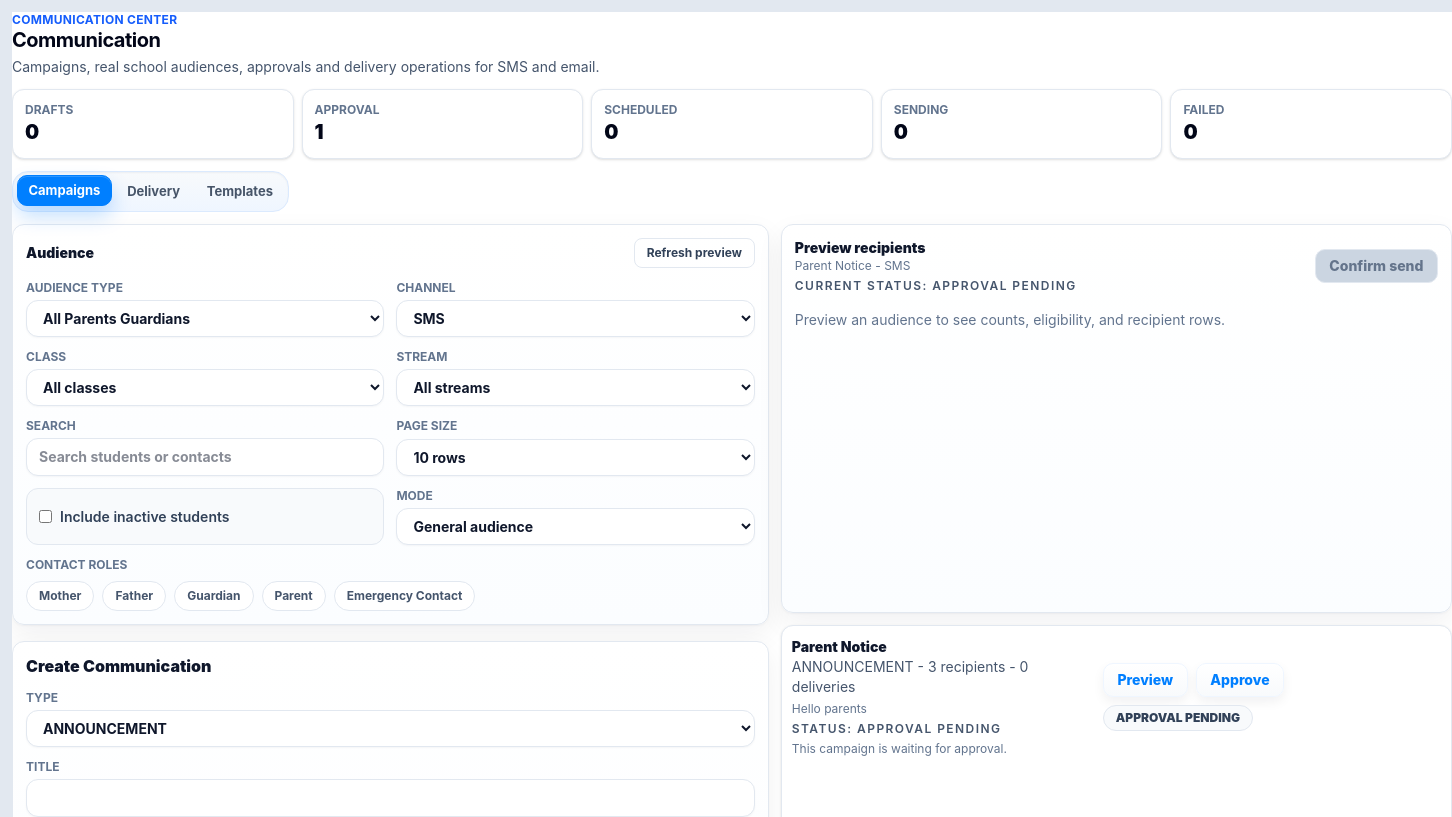
Test: CommunicationsPage › shows Approve only for approval-pending campaigns and approved users, then refreshes after approval
The width and height of the screenshot is (1452, 817).
Click the button "Approve".
click(1240, 680)  # box [1196,662,1284,696]
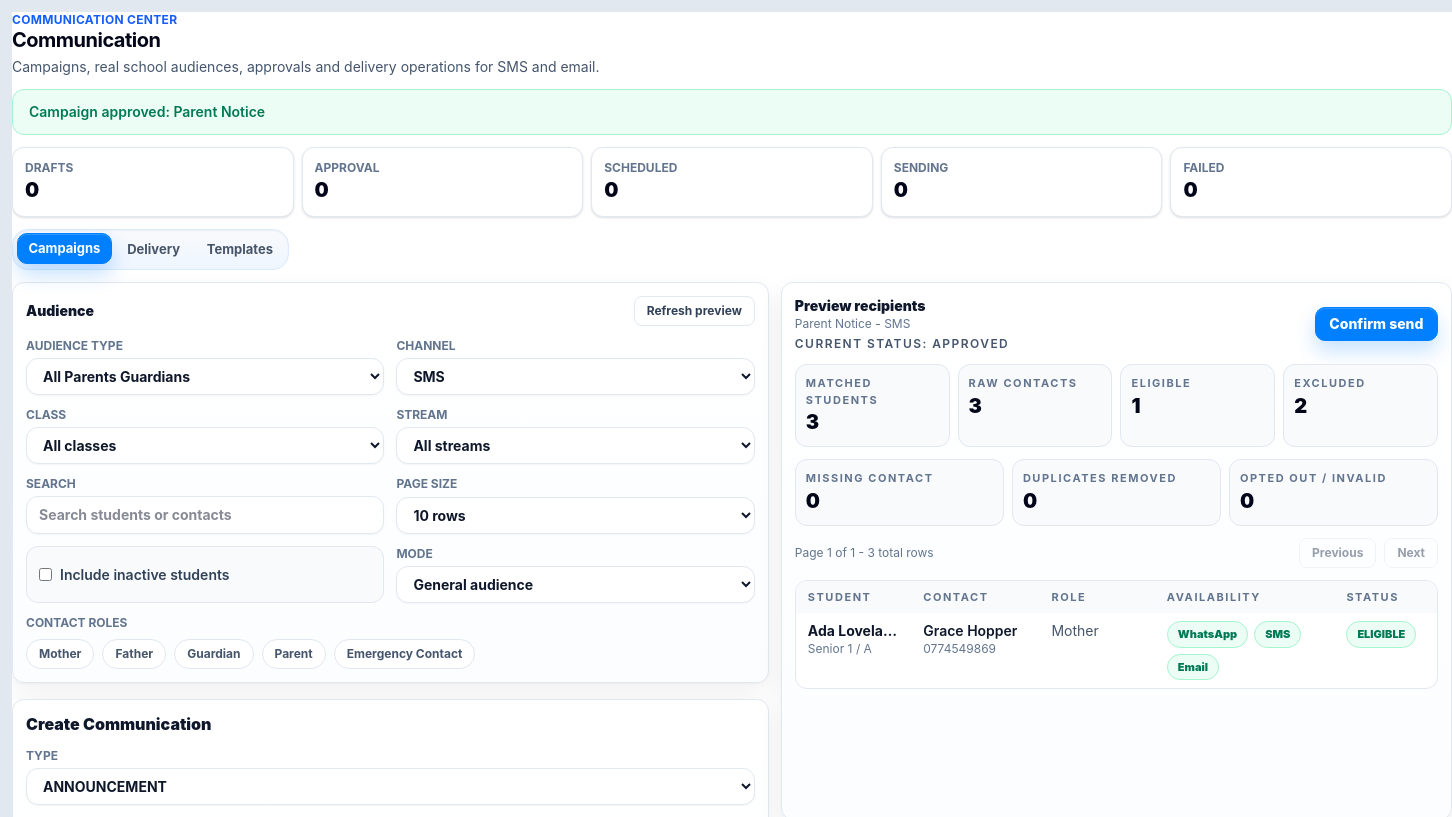
Now the text "Campaign approved: Parent Notice" is shown, box [12,89,1451,135]
